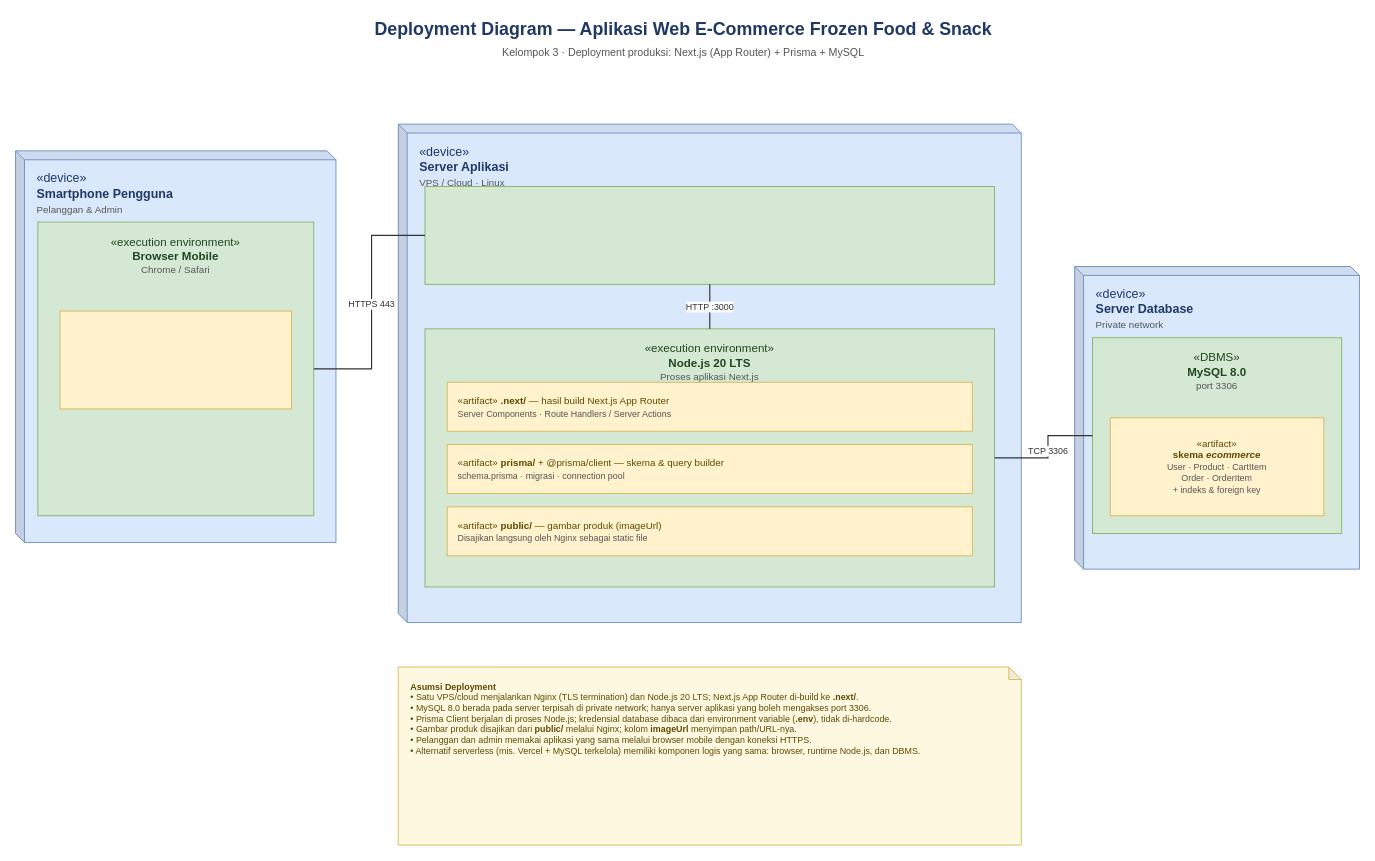
The diagram is 1375 pixels wide and 861 high, and some of its shapes have lost their labels. The centre of each missing label's shape, as x and y in pixels:
"«artifact» UI Web Mobile-First HTML · CSS · JS bundle React Server Components" belongs at (175,359).
"«execution environment» Nginx Reverse proxy · TLS termination · static files" belongs at (709,235).
